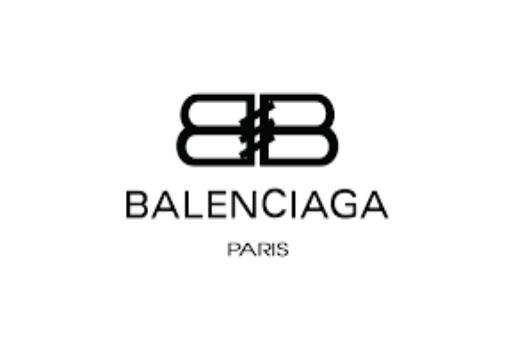BALENCIAGA: (174, 90, 336, 166), (124, 185, 391, 223)
